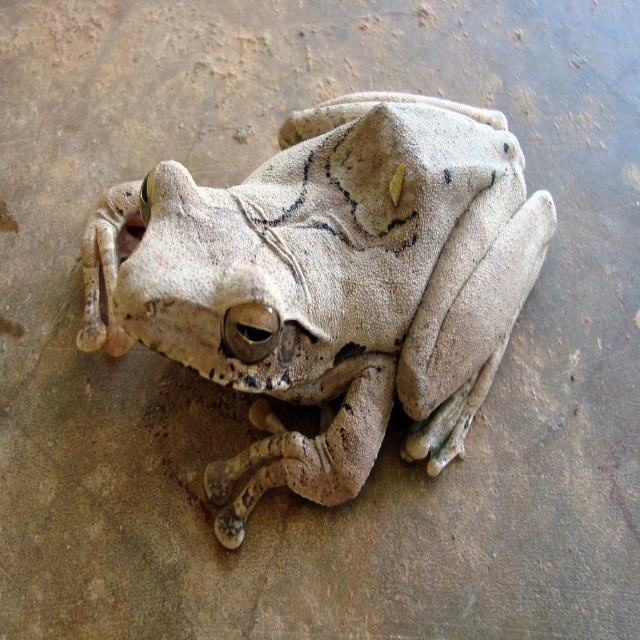Frog: (74, 91, 556, 551)
